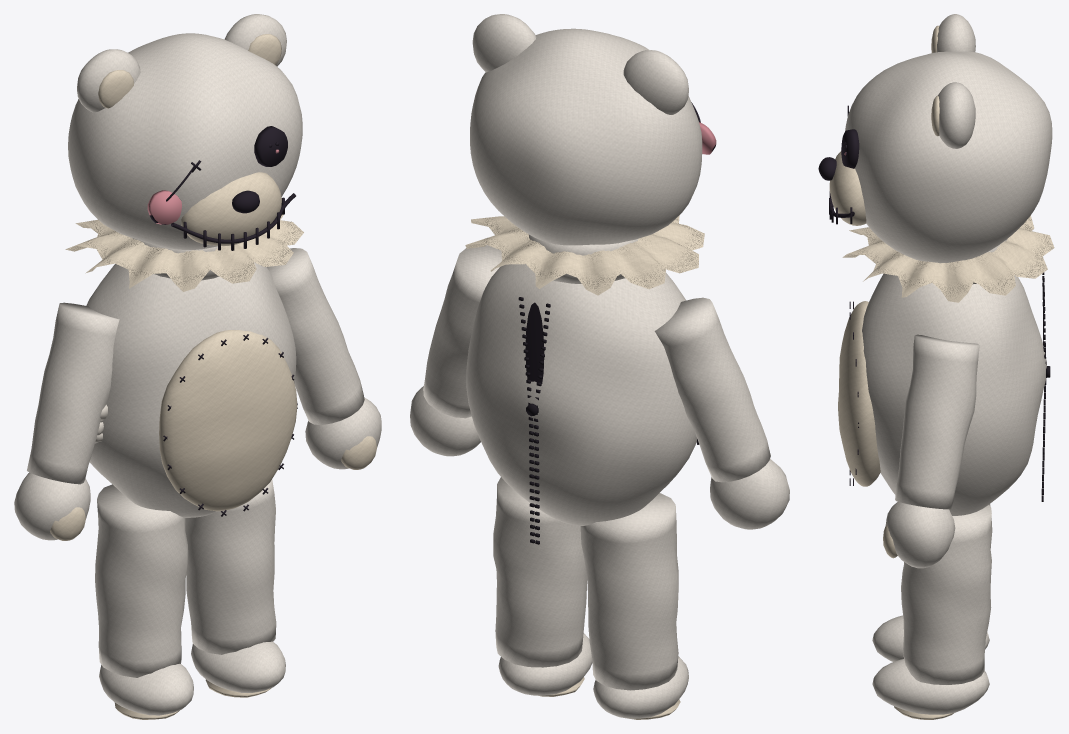
Rendered from Doux_Ours.glb.
3 renders of one model, left to right at view 1: azimuth 30°, elevation 25°; view 2: azimuth 150°, elevation 25°; view 3: azimuth 270°, elevation 25°, orthographic. The views are drawn at different scales.
Parts seen in each view (by area): view 1: Corps, Tete_Fourrure, Corps_Creme, Col, Tete_Creme, Tete_Details; view 2: Corps, Tete_Fourrure, Col, Fermeture, Fermeture_Trou; view 3: Corps, Tete_Fourrure, Col, Corps_Creme, Tete_Creme, Tete_Details, Fermeture.
Part boxes in pixels (x1=…): Corps: x1=14, y1=238, x2=381, y2=715; Tete_Fourrure: x1=68, y1=14, x2=302, y2=249; Corps_Creme: x1=50, y1=330, x2=376, y2=719; Col: x1=65, y1=214, x2=303, y2=291; Tete_Creme: x1=98, y1=34, x2=281, y2=245; Tete_Details: x1=147, y1=126, x2=295, y2=250; Corps: x1=410, y1=234, x2=789, y2=718; Tete_Fourrure: x1=470, y1=14, x2=702, y2=245; Col: x1=465, y1=215, x2=704, y2=295; Fermeture: x1=518, y1=297, x2=550, y2=544; Fermeture_Trou: x1=525, y1=302, x2=544, y2=383; Corps: x1=862, y1=239, x2=1046, y2=714; Tete_Fourrure: x1=845, y1=14, x2=1052, y2=263; Col: x1=842, y1=215, x2=1054, y2=302; Corps_Creme: x1=838, y1=301, x2=953, y2=719; Tete_Creme: x1=829, y1=25, x2=939, y2=225; Tete_Details: x1=818, y1=105, x2=859, y2=224; Fermeture: x1=1041, y1=272, x2=1050, y2=501.
Bounding box in the file's own units: 1.17 × 2.04 × 0.6852.
Materials: 6 (3 with a texture image).
